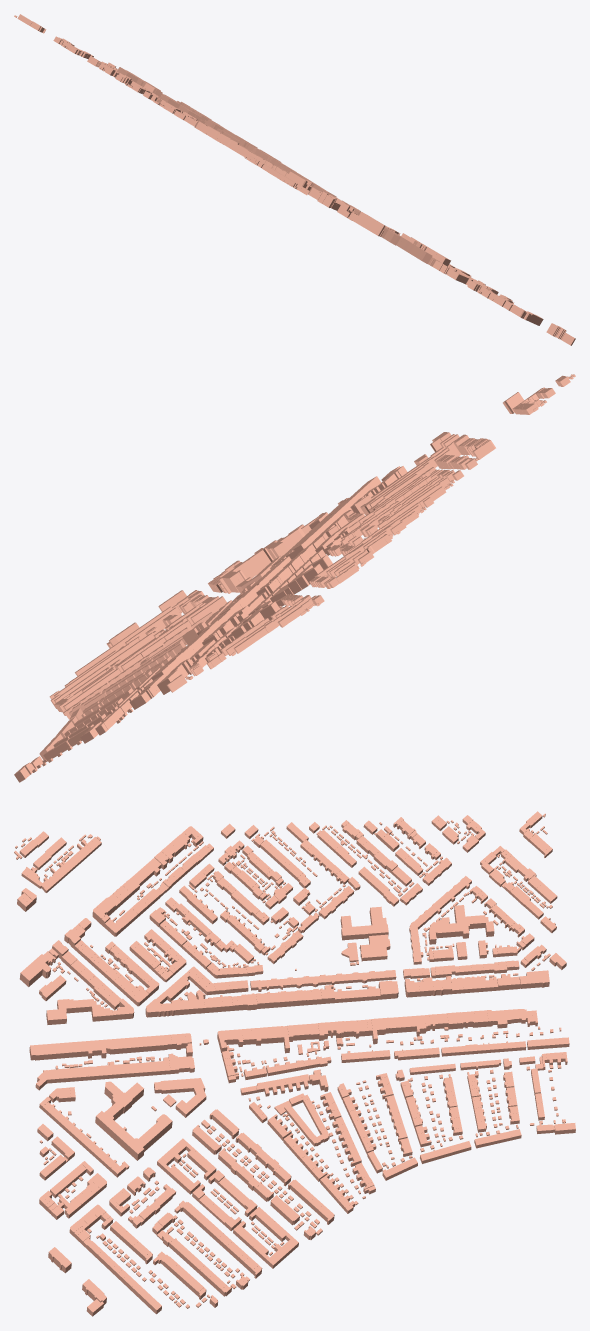
3 renders of one model, top to bottom at view 1: azimuth 30°, elevation 25°; view 2: azimuth 150°, elevation 25°; view 3: azimuth 270°, elevation 25°, orthographic. The views are drawn at different scales.
Bounding box in the file's own units: 531 × 384 × 631.
